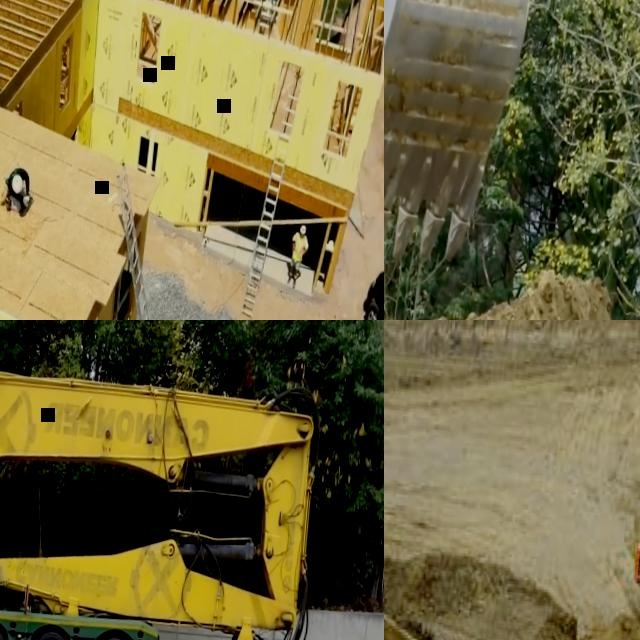Hardhat: (10, 174, 23, 195), (300, 225, 307, 234)
NO-Mask: (299, 235, 303, 239)
NO-Safety Vest: (6, 167, 21, 192)
Person: (286, 223, 310, 291), (2, 167, 30, 215)
Safety Vest: (292, 235, 306, 259)
machinery: (0, 325, 330, 640), (384, 0, 530, 271), (384, 209, 640, 320)
vehicle: (352, 264, 384, 320)
